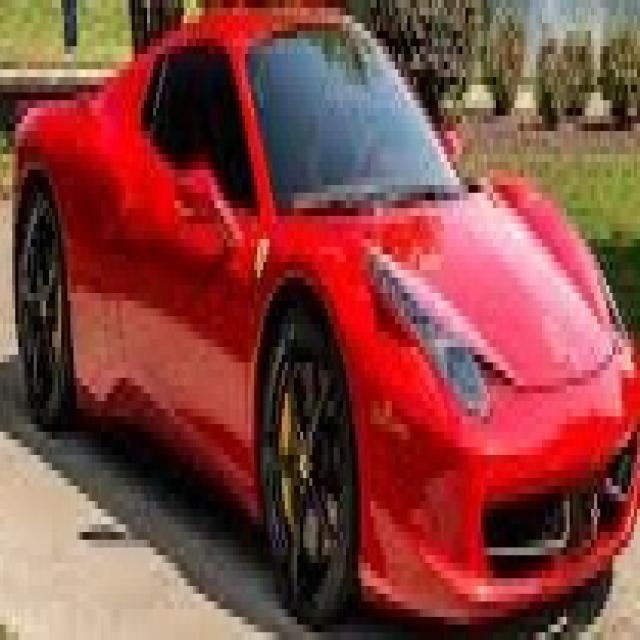red: (15, 0, 637, 640)
